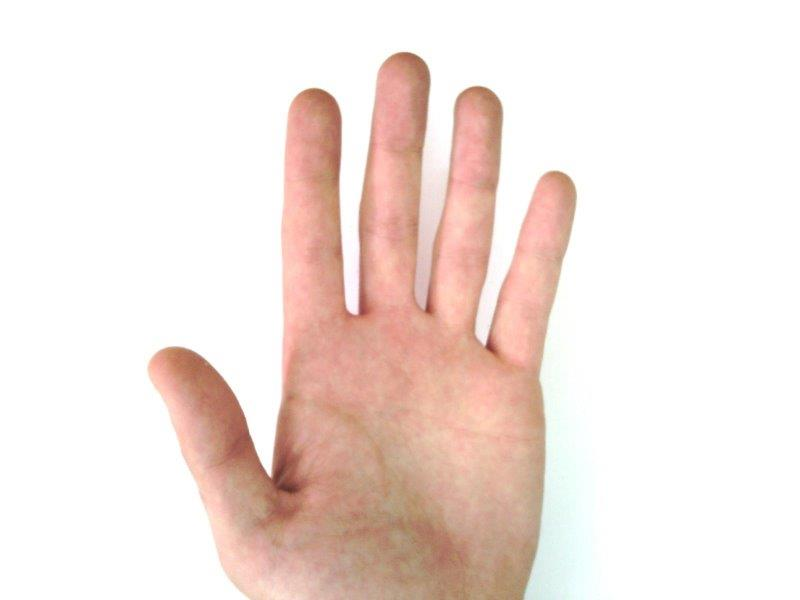hand: (147, 53, 575, 598)
